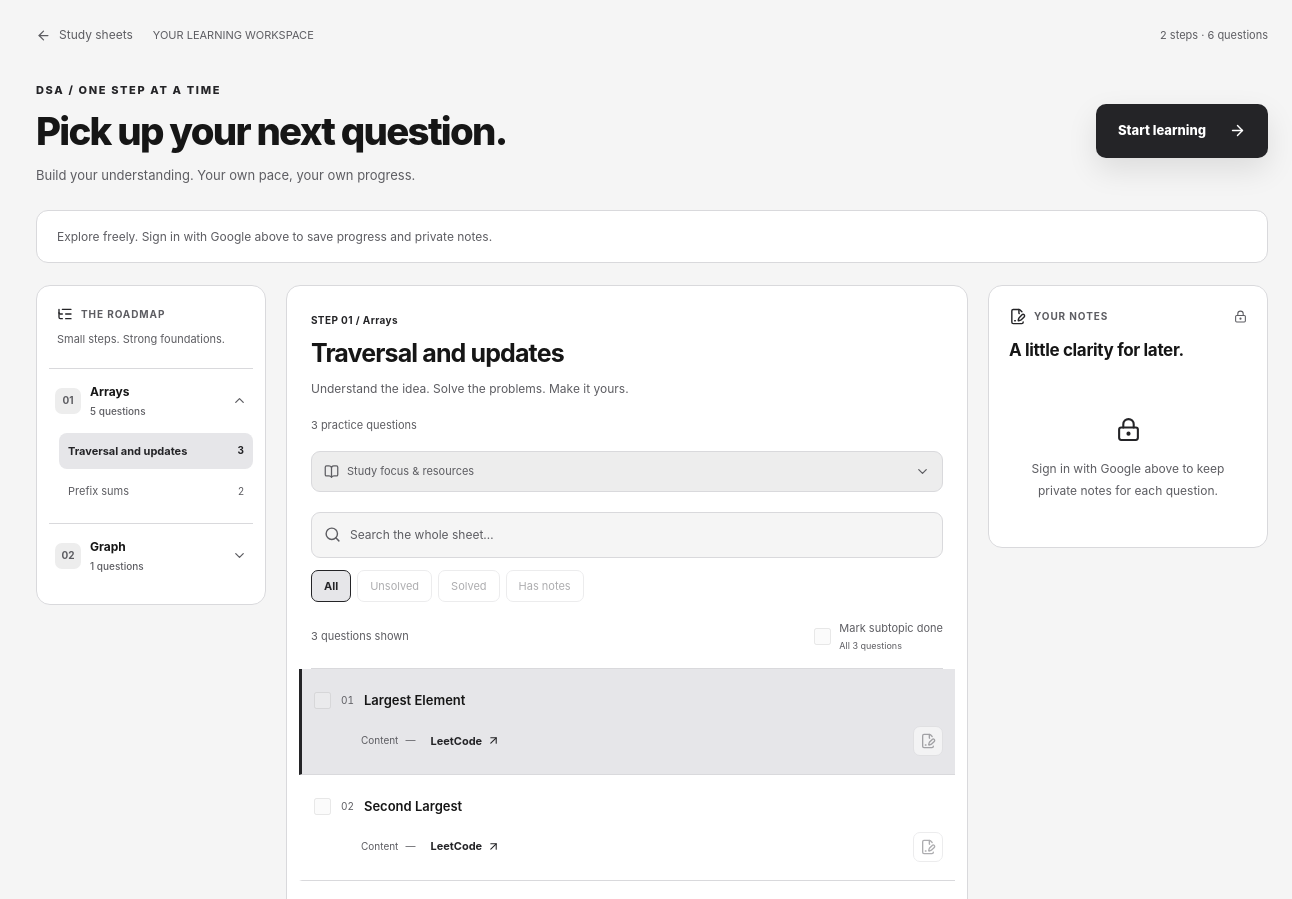
Learning Workspace › lets guests search the whole sheet without editing or fetching private notes
expect the heading "Traversal and updates" is shown: met, box [311,338,564,368]
expect the button "Solved" is disabled: met, box [438,570,500,602]
Type "islands" into the search field at (640, 535), box [350,513,930,557]
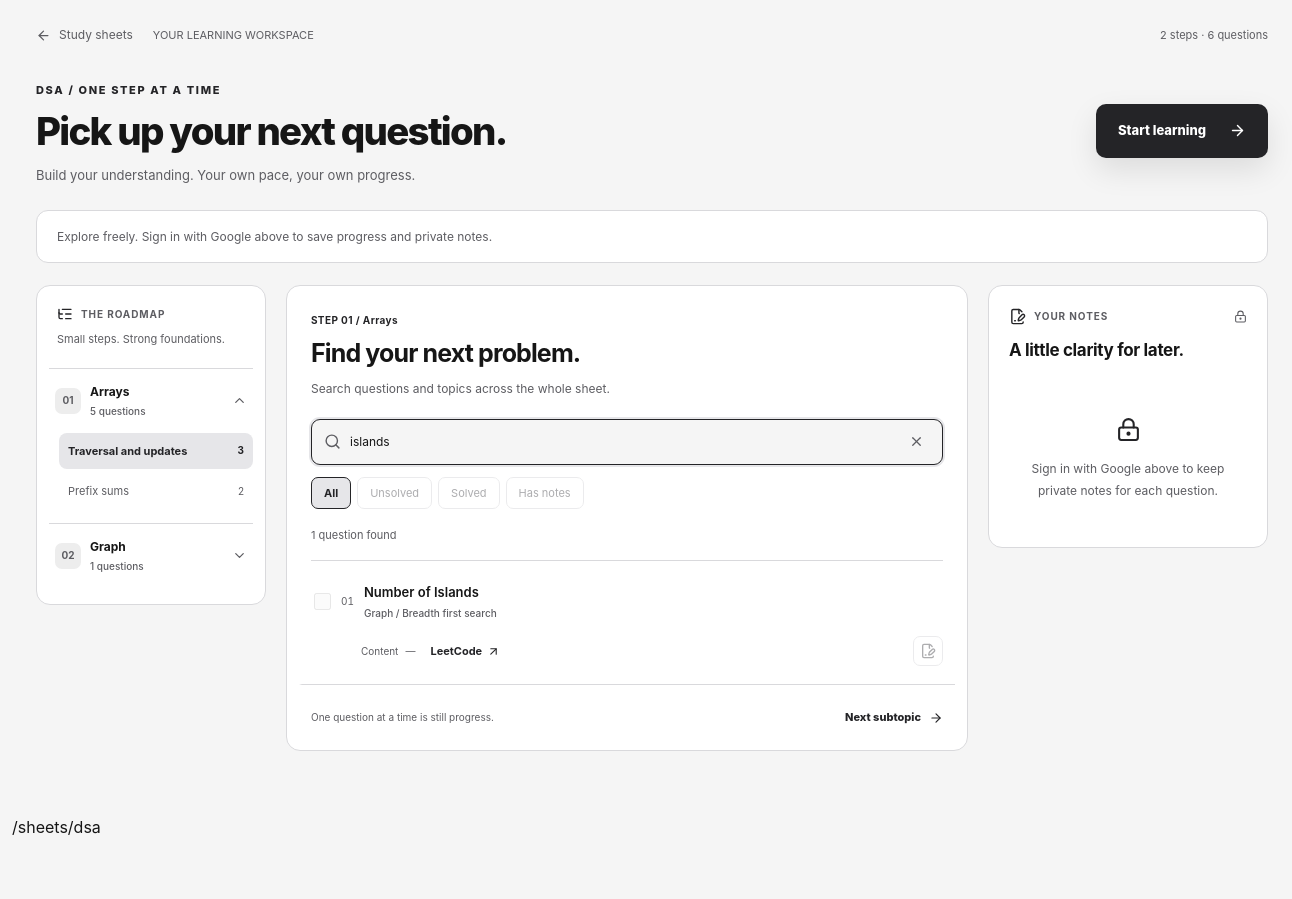
expect the button "Number of Islands Graph / Breadth first search" is shown: met, box [364,579,943,624]
expect the button "Largest Element" is gone: met
